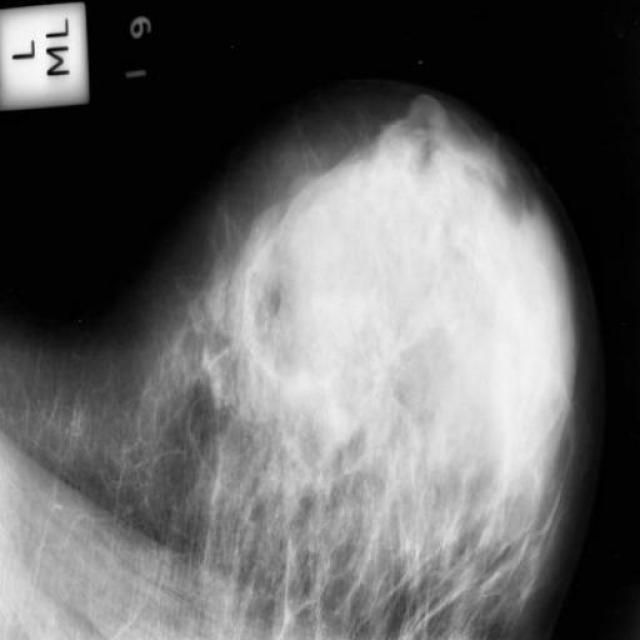cancer: (213, 317, 258, 374)
